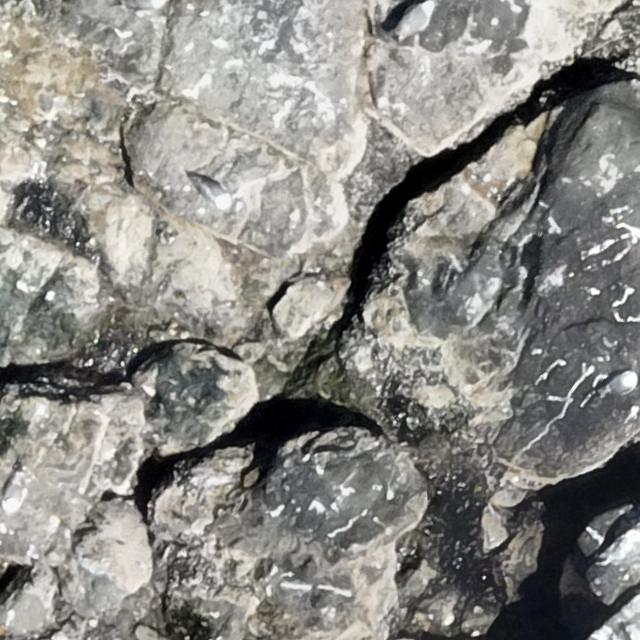umineko: (398, 0, 438, 40), (192, 174, 230, 211), (598, 370, 640, 393)
